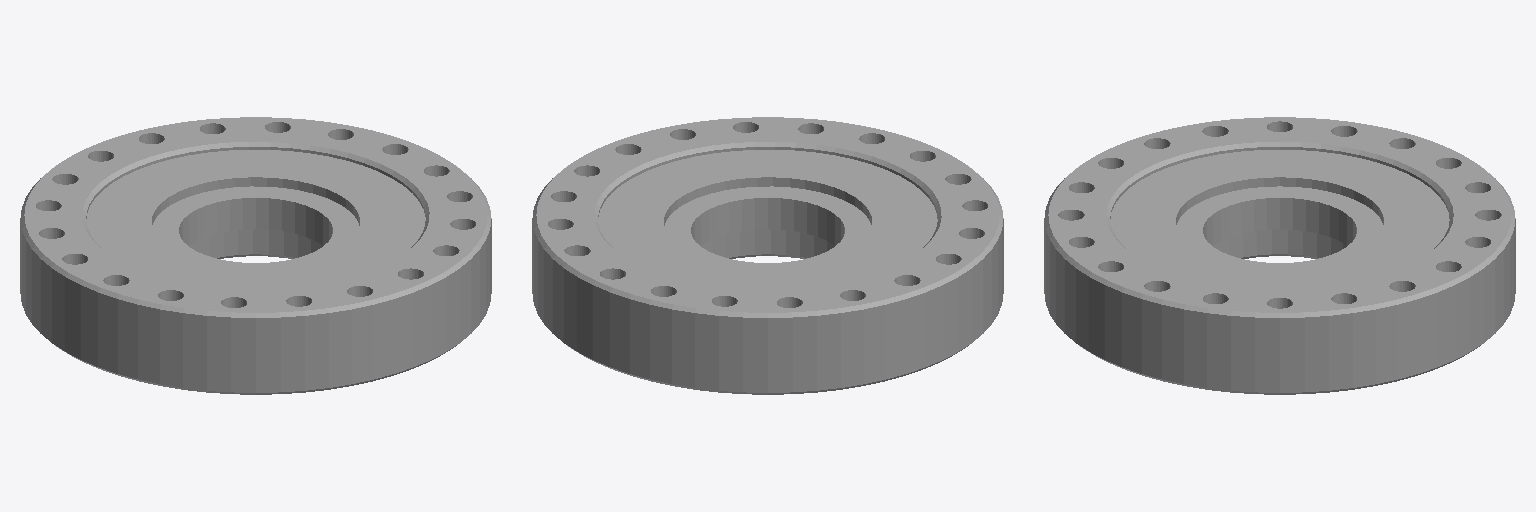
The robot description file, URDF, robot "singlearm":
<?xml version="1.0" encoding="utf-8"?>
<!-- =================================================================================== -->
<!-- |    This document was autogenerated by xacro from singlearm.xacro                 | -->
<!-- |    EDITING THIS FILE BY HAND IS NOT RECOMMENDED                                 | -->
<!-- =================================================================================== -->
<robot name="singlearm">
  <!-- ros_control plugin -->
  <gazebo>
    <plugin filename="libgazebo_ros_control.so" name="gazebo_ros_control">
      <robotNamespace>/singlearm</robotNamespace>
      <robotSimType>gazebo_ros_control/DefaultRobotHWSim</robotSimType>
      <controlPeriod>0.001</controlPeriod>
    </plugin>
  </gazebo>
  <!-- Base parts -->
  <link name="world"/>
  <joint name="base_joint" type="fixed">
    <origin rpy="0 0 0" xyz="0 0 0"/>
    <parent link="world"/>
    <child link="base_link"/>
  </joint>
  <link name="base_link">
    <inertial>
      <mass value="100.0"/>
      <origin rpy="0 0 0" xyz="0 0 0"/>
      <inertia ixx="0.0" ixy="0.0" ixz="0.0" iyy="0.0" iyz="0.0" izz="0.0"/>
    </inertial>
    <!--<collision>
        <origin
                rpy="${vis_rpy}"
                xyz="${vis_xyz}" />
        <geometry>
          <mesh
                  filename="${mesh_file}"
                  scale="${mesh_scale}"/>
        </geometry>
      </collision>-->
    <visual>
      <origin rpy="0 0 0" xyz="0 0 0"/>
      <geometry>
        <mesh filename="package://singlearm_description/meshes/base_link.STL" scale="0.001 0.001 0.001"/>
      </geometry>
    </visual>
  </link>
  <joint name="joint1" type="revolute">
    <axis xyz="0 0 -1"/>
    <limit effort="300" lower="0" upper="2.09439333333" velocity="1"/>
    <origin rpy="0 0 0" xyz="0.184 0 1.437"/>
    <parent link="base_link"/>
    <child link="link_01"/>
    <dynamics damping="0.1" friction="0.1"/>
  </joint>
  <transmission name="trans_joint1">
    <type>transmission_interface/SimpleTransmission</type>
    <joint name="joint1">
      <hardwareInterface>hardware_interface/EffortJointInterface</hardwareInterface>
    </joint>
    <actuator name="motor_joint1">
      <hardwareInterface>hardware_interface/EffortJointInterface</hardwareInterface>
      <mechanicalReduction>1</mechanicalReduction>
    </actuator>
  </transmission>
  <link name="link_01">
    <inertial>
      <mass value="3.2322"/>
      <origin rpy="0 0 0" xyz="0 0 0"/>
      <inertia ixx="0.096344" ixy="2.3e-05" ixz="0.0372953" iyy="0.1127698" iyz="1e-07" izz="0.0226937"/>
    </inertial>
    <!--<collision>
        <origin
                rpy="${vis_rpy}"
                xyz="${vis_xyz}" />
        <geometry>
          <mesh
                  filename="${mesh_file}"
                  scale="${mesh_scale}"/>
        </geometry>
      </collision>-->
    <visual>
      <origin rpy="0 0 0" xyz="0 0 0"/>
      <geometry>
        <mesh filename="package://singlearm_description/meshes/L1.STL" scale="0.001 0.001 0.001"/>
      </geometry>
    </visual>
  </link>
  <joint name="joint2" type="revolute">
    <axis xyz="-1 0 0"/>
    <limit effort="300" lower="-1.570795" upper="1.04719666667" velocity="1"/>
    <origin rpy="0 0 0" xyz="0.122 0 0.0643"/>
    <parent link="link_01"/>
    <child link="link_02"/>
    <dynamics damping="0.1" friction="0.1"/>
  </joint>
  <transmission name="trans_joint2">
    <type>transmission_interface/SimpleTransmission</type>
    <joint name="joint2">
      <hardwareInterface>hardware_interface/EffortJointInterface</hardwareInterface>
    </joint>
    <actuator name="motor_joint2">
      <hardwareInterface>hardware_interface/EffortJointInterface</hardwareInterface>
      <mechanicalReduction>1</mechanicalReduction>
    </actuator>
  </transmission>
  <link name="link_02">
    <inertial>
      <mass value="3.2103"/>
      <origin rpy="0 0 0" xyz="0 0 0"/>
      <inertia ixx="0.1015479" ixy="0.0108557" ixz="0.1068677" iyy="0.2232514" iyz="0.0092987" izz="0.130574"/>
    </inertial>
    <!--<collision>
        <origin
                rpy="${vis_rpy}"
                xyz="${vis_xyz}" />
        <geometry>
          <mesh
                  filename="${mesh_file}"
                  scale="${mesh_scale}"/>
        </geometry>
      </collision>-->
    <visual>
      <origin rpy="0 0 0" xyz="0 0 0"/>
      <geometry>
        <mesh filename="package://singlearm_description/meshes/L2.STL" scale="0.001 0.001 0.001"/>
      </geometry>
    </visual>
  </link>
  <joint name="joint3" type="revolute">
    <axis xyz="0 -1 0"/>
    <limit effort="300" lower="-0.349065555556" upper="1.570795" velocity="1"/>
    <origin rpy="0 0 0" xyz="0.078 0 0"/>
    <parent link="link_02"/>
    <child link="link_03"/>
    <dynamics damping="0.1" friction="0.1"/>
  </joint>
  <transmission name="trans_joint3">
    <type>transmission_interface/SimpleTransmission</type>
    <joint name="joint3">
      <hardwareInterface>hardware_interface/EffortJointInterface</hardwareInterface>
    </joint>
    <actuator name="motor_joint3">
      <hardwareInterface>hardware_interface/EffortJointInterface</hardwareInterface>
      <mechanicalReduction>1</mechanicalReduction>
    </actuator>
  </transmission>
  <link name="link_03">
    <inertial>
      <mass value="2.5796"/>
      <origin rpy="0 0 0" xyz="0 0 0"/>
      <inertia ixx="0.0206408" ixy="0.0007994" ixz="-0.0017107" iyy="0.1212655" iyz="0.0013249" izz="0.10809"/>
    </inertial>
    <!--<collision>
        <origin
                rpy="${vis_rpy}"
                xyz="${vis_xyz}" />
        <geometry>
          <mesh
                  filename="${mesh_file}"
                  scale="${mesh_scale}"/>
        </geometry>
      </collision>-->
    <visual>
      <origin rpy="0 0 0" xyz="0 0 0"/>
      <geometry>
        <mesh filename="package://singlearm_description/meshes/L3.STL" scale="0.001 0.001 0.001"/>
      </geometry>
    </visual>
  </link>
  <joint name="joint4" type="revolute">
    <axis xyz="0 0 1"/>
    <limit effort="300" lower="0" upper="3.14159" velocity="1"/>
    <origin rpy="0 0 0" xyz="0 0 -0.252"/>
    <parent link="link_03"/>
    <child link="link_04"/>
    <dynamics damping="0.1" friction="0.1"/>
  </joint>
  <transmission name="trans_joint4">
    <type>transmission_interface/SimpleTransmission</type>
    <joint name="joint4">
      <hardwareInterface>hardware_interface/EffortJointInterface</hardwareInterface>
    </joint>
    <actuator name="motor_joint4">
      <hardwareInterface>hardware_interface/EffortJointInterface</hardwareInterface>
      <mechanicalReduction>1</mechanicalReduction>
    </actuator>
  </transmission>
  <link name="link_04">
    <inertial>
      <mass value="2.7422"/>
      <origin rpy="0 0 0" xyz="0 0 0"/>
      <inertia ixx="0.1358592" ixy="-0.0069269" ixz="-0.1013393" iyy="0.2185321" iyz="0.0093766" izz="0.0920665"/>
    </inertial>
    <!--<collision>
        <origin
                rpy="${vis_rpy}"
                xyz="${vis_xyz}" />
        <geometry>
          <mesh
                  filename="${mesh_file}"
                  scale="${mesh_scale}"/>
        </geometry>
      </collision>-->
    <visual>
      <origin rpy="0 0 0" xyz="0 0 0"/>
      <geometry>
        <mesh filename="package://singlearm_description/meshes/L4.STL" scale="0.001 0.001 0.001"/>
      </geometry>
    </visual>
  </link>
  <joint name="joint5" type="revolute">
    <axis xyz="0 1 0"/>
    <limit effort="300" lower="-1.570795" upper="0.7853975" velocity="1"/>
    <origin rpy="0 0 0" xyz="-0.0245 0 -0.148"/>
    <parent link="link_04"/>
    <child link="link_05"/>
    <dynamics damping="0.1" friction="0.1"/>
  </joint>
  <transmission name="trans_joint5">
    <type>transmission_interface/SimpleTransmission</type>
    <joint name="joint5">
      <hardwareInterface>hardware_interface/EffortJointInterface</hardwareInterface>
    </joint>
    <actuator name="motor_joint5">
      <hardwareInterface>hardware_interface/EffortJointInterface</hardwareInterface>
      <mechanicalReduction>1</mechanicalReduction>
    </actuator>
  </transmission>
  <link name="link_05">
    <inertial>
      <mass value="1.9907"/>
      <origin rpy="0 0 0" xyz="0 0 0"/>
      <inertia ixx="0.3135683" ixy="-0.000482" ixz="-0.1519997" iyy="0.3866411" iyz="0.0004299" izz="0.079726"/>
    </inertial>
    <!--<collision>
        <origin
                rpy="${vis_rpy}"
                xyz="${vis_xyz}" />
        <geometry>
          <mesh
                  filename="${mesh_file}"
                  scale="${mesh_scale}"/>
        </geometry>
      </collision>-->
    <visual>
      <origin rpy="0 0 0" xyz="0 0 0"/>
      <geometry>
        <mesh filename="package://singlearm_description/meshes/L5.STL" scale="0.001 0.001 0.001"/>
      </geometry>
    </visual>
  </link>
  <joint name="joint6" type="revolute">
    <axis xyz="0 0 1"/>
    <limit effort="200" lower="-0.7853975" upper="0.7853975" velocity="1"/>
    <origin rpy="0 0 0" xyz="0.0245 0 -0.2245"/>
    <parent link="link_05"/>
    <child link="link_06"/>
    <dynamics damping="0.1" friction="0.1"/>
  </joint>
  <transmission name="trans_joint6">
    <type>transmission_interface/SimpleTransmission</type>
    <joint name="joint6">
      <hardwareInterface>hardware_interface/EffortJointInterface</hardwareInterface>
    </joint>
    <actuator name="motor_joint6">
      <hardwareInterface>hardware_interface/EffortJointInterface</hardwareInterface>
      <mechanicalReduction>1</mechanicalReduction>
    </actuator>
  </transmission>
  <link name="link_06">
    <inertial>
      <mass value="0.0612"/>
      <origin rpy="0 0 0" xyz="0 0 0.2"/>
      <inertia ixx="0.0129617" ixy="0.0" ixz="0.0056294" iyy="0.0154097" iyz="0.0" izz="0.0024798"/>
    </inertial>
    <!--<collision>
        <origin
                rpy="${vis_rpy}"
                xyz="${vis_xyz}" />
        <geometry>
          <mesh
                  filename="${mesh_file}"
                  scale="${mesh_scale}"/>
        </geometry>
      </collision>-->
    <visual>
      <origin rpy="0 0 0" xyz="0 0 0"/>
      <geometry>
        <mesh filename="package://singlearm_description/meshes/L6.STL" scale="0.001 0.001 0.001"/>
      </geometry>
    </visual>
  </link>
</robot>

--- Render facts (derived) ---
Views: 3 orthographic renders of the robot side by side, from view 1: azimuth 30°, elevation 25°; view 2: azimuth 150°, elevation 25°; view 3: azimuth 270°, elevation 25°.
Model singlearm with 8 links and 7 joints (6 revolute, 1 fixed), rooted at world, posed all joints at 0.
Visible links, largest first — view 1: link_06; view 2: link_06; view 3: link_06.
Link boxes in pixels (bbox=[...]): link_06: bbox=[20, 117, 491, 394]; link_06: bbox=[532, 117, 1003, 394]; link_06: bbox=[1044, 117, 1515, 394].
Bounding box of the posed robot: 0.061 × 0.061 × 0.0117 m (x, y, z).
Meshes: 7 distinct files referenced, 1 mesh visuals loaded (1 binary STL); not drawn: 6 (reference not matched to a file when rendering).